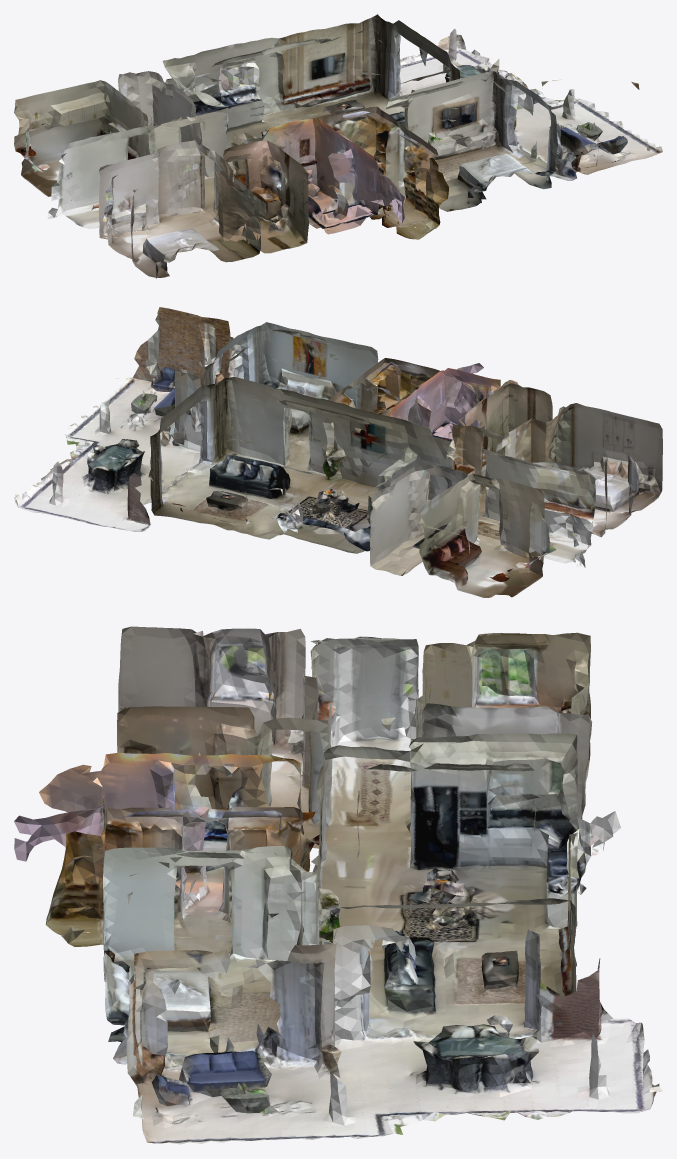
3 renders of one model, top to bottom at view 1: azimuth 30°, elevation 25°; view 2: azimuth 150°, elevation 25°; view 3: azimuth 270°, elevation 25°, orthographic. The views are drawn at different scales.
Size of the model in its own units: 20.32 by 3.09 by 13.52.
1 material, 1 textured.
